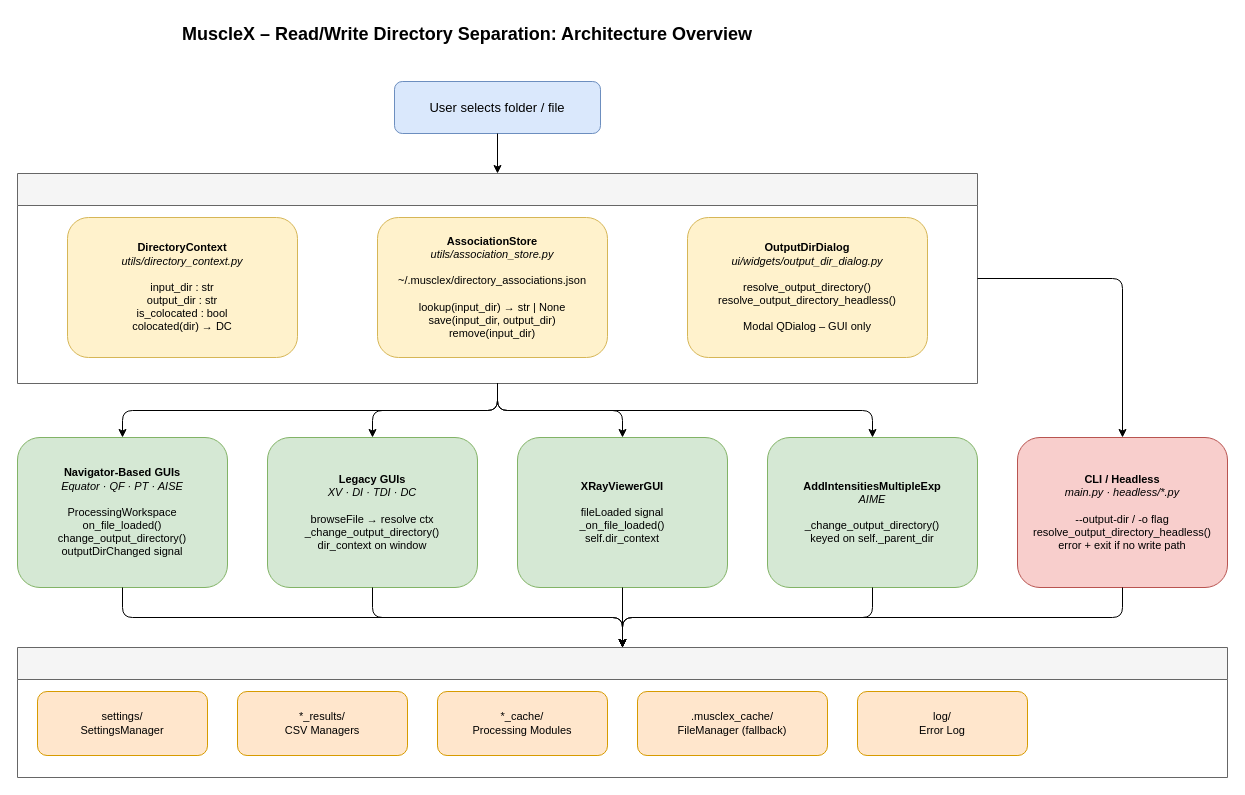
This 1245x795 diagram has some shape labels left out. The box of each missing label's shape, as (x1, y1, x2, y2) in pixels:
New Core Components: (16, 172, 978, 384)
Write Targets (all routed through output_dir): (16, 646, 1228, 778)
